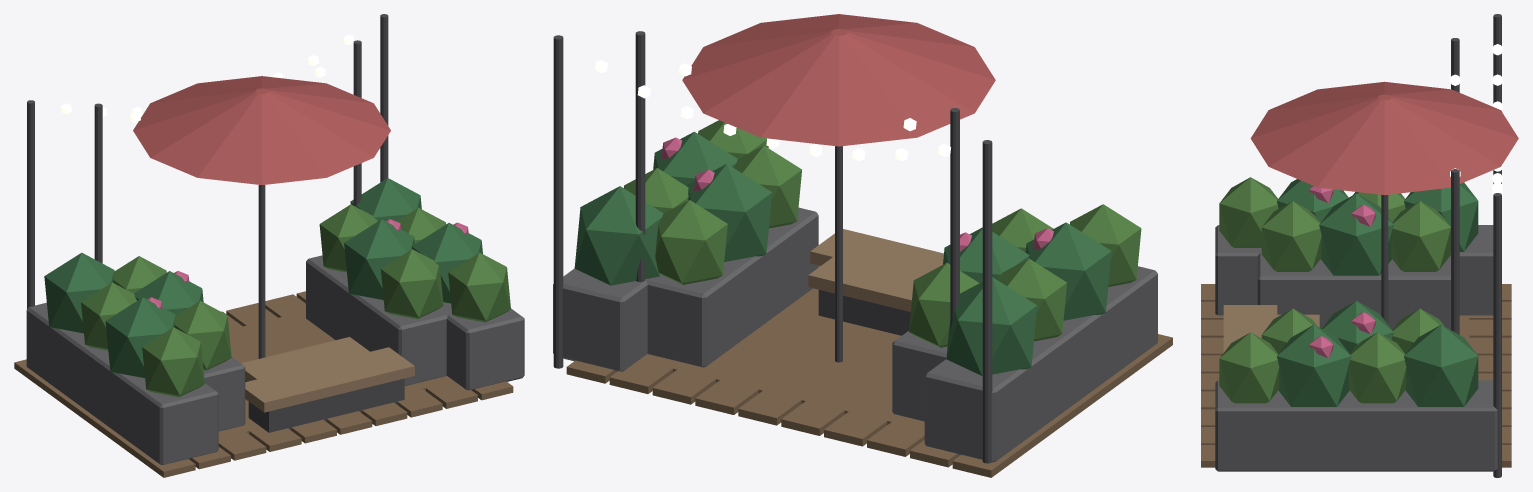
Rendered from garden104.glb.
3 views of the same model, side by side, from view 1: azimuth 30°, elevation 25°; view 2: azimuth 150°, elevation 25°; view 3: azimuth 270°, elevation 25° (orthographic). The views are drawn at different scales.
Visible parts, largest first — view 1: g-canopy, g-planter, g-planter.003, g-planter.001, g-bench, g-shrub.004, g-shrub, g-shrub.011, g-shrub.003, g-bench-leg, g-shrub.012, g-shrub.001 (+24 smaller); view 2: g-canopy, g-planter, g-planter.003, g-planter.001, g-shrub.007, g-shrub.003, g-shrub.013, g-shrub.001, g-shrub.012, g-board.006, g-board.004, g-bench.001 (+29 smaller); view 3: g-canopy, g-planter.001, g-planter.002, g-planter, g-shrub.007, g-shrub.005, g-shrub.009, g-shrub.004, g-shrub.008, g-shrub.010, g-shrub.006, g-shrub (+25 smaller).
Part boxes in pixels (x1,y1,x2,y2): g-canopy: (133,76,390,184); g-planter: (26,302,218,464); g-planter.003: (306,255,451,385); g-planter.001: (443,302,524,390); g-bench: (245,347,414,412); g-shrub.004: (448,252,510,322); g-shrub: (142,327,204,396); g-shrub.011: (380,249,443,318); g-shrub.003: (44,252,114,333); g-bench-leg: (248,378,404,432); g-shrub.012: (344,219,414,299); g-shrub.001: (105,297,175,378); g-canopy: (682,14,995,146); g-planter: (924,266,1157,462); g-planter.003: (645,207,818,367); g-planter.001: (553,268,647,371); g-shrub.007: (574,186,663,285); g-shrub.003: (946,277,1037,376); g-shrub.013: (655,200,727,284); g-shrub.001: (1025,222,1111,320); g-shrub.012: (687,164,772,261); g-board.006: (695,308,849,414); g-board.004: (781,334,901,435); g-bench.001: (808,253,926,311); g-canopy: (1250,81,1518,195); g-planter.001: (1215,380,1497,471); g-planter.002: (1257,249,1450,329); g-planter: (1215,225,1493,315); g-shrub.007: (1404,324,1478,406); g-shrub.005: (1277,324,1351,406); g-shrub.009: (1319,193,1393,275); g-shrub.004: (1219,332,1279,403); g-shrub.008: (1261,201,1321,271); g-shrub.010: (1391,201,1450,271); g-shrub.006: (1349,332,1406,403); g-shrub: (1219,177,1278,247).
Bounding box in the file's own units: 3.16 × 2.26 × 2.25.
